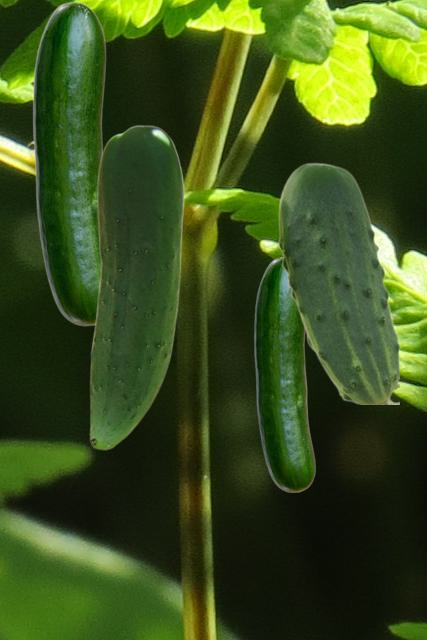cucumber: (89, 125, 183, 449), (278, 162, 398, 403), (32, 1, 106, 325), (254, 257, 314, 491)
